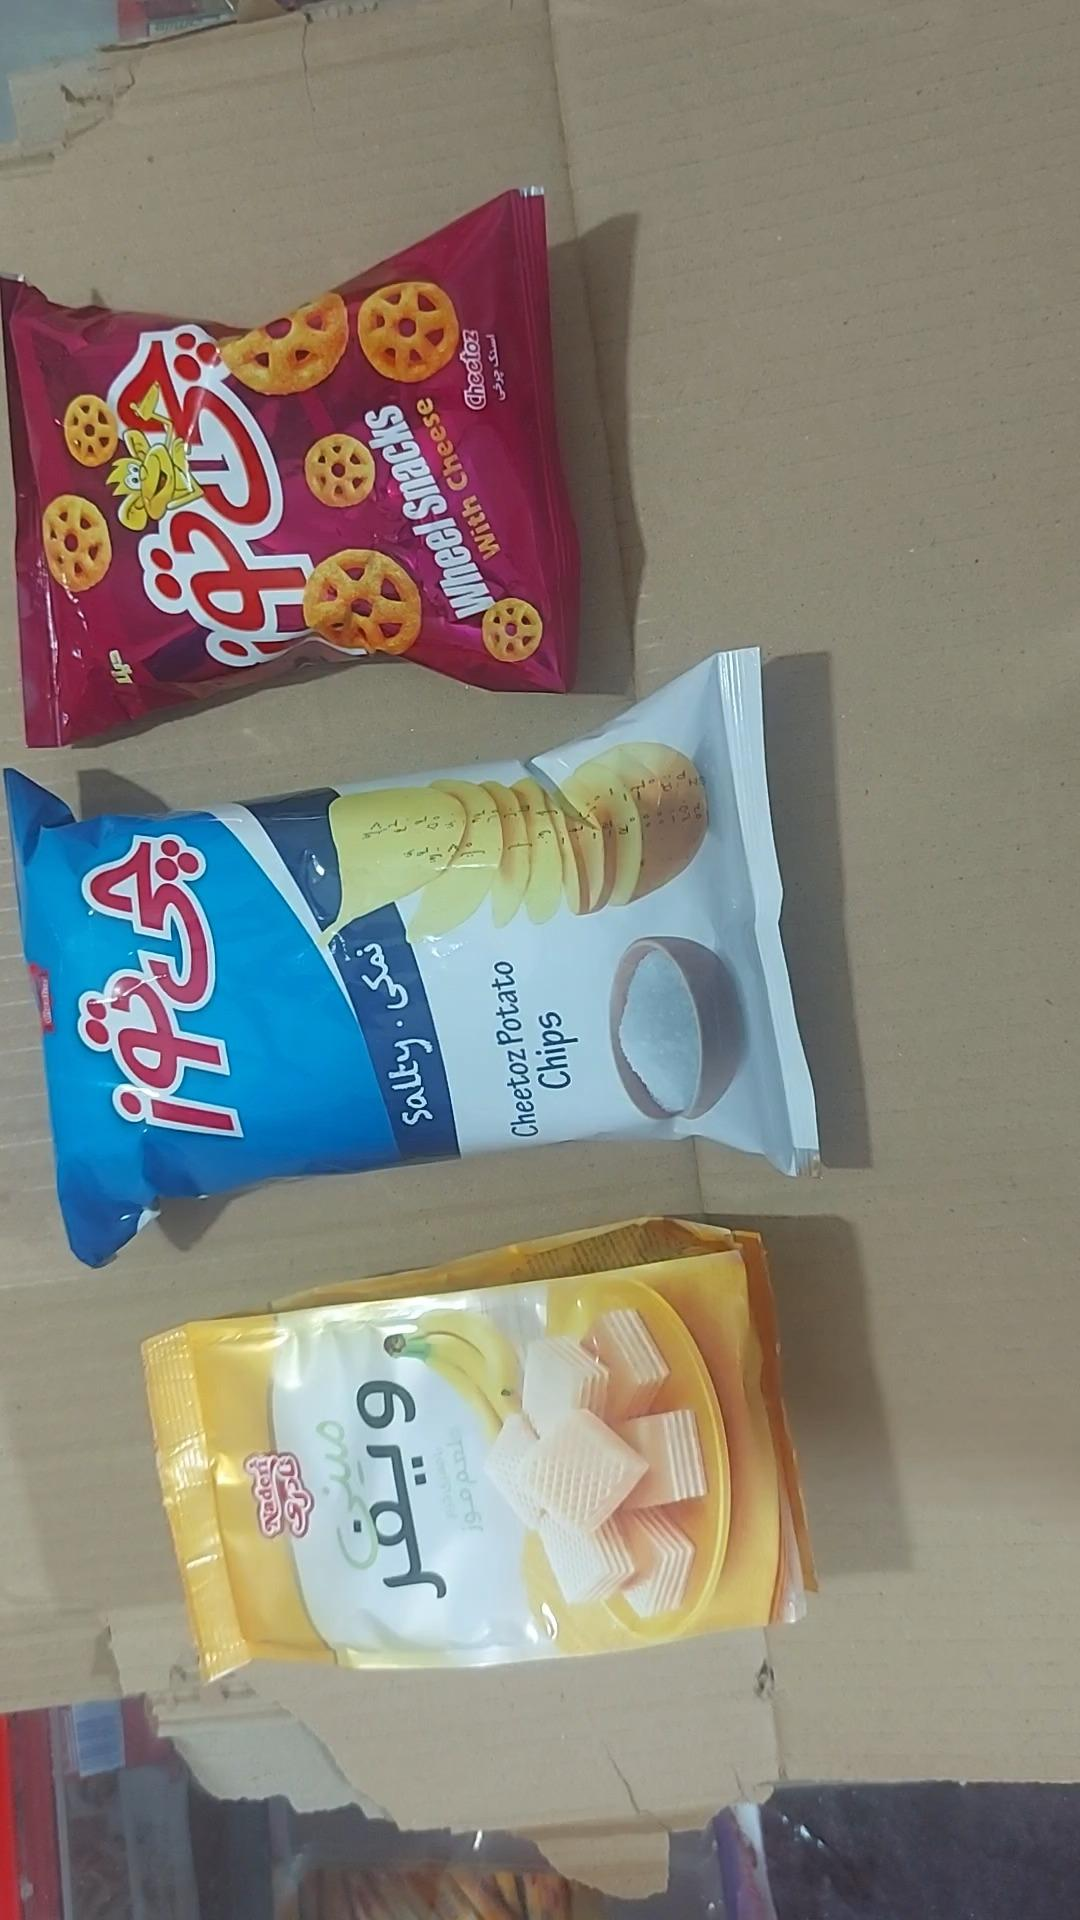Cheetoz salty chips: (5, 649, 822, 1271)
Cheetoz wheelsnack: (0, 189, 582, 753)
Naderi mini wafer: (140, 1217, 822, 1685)
